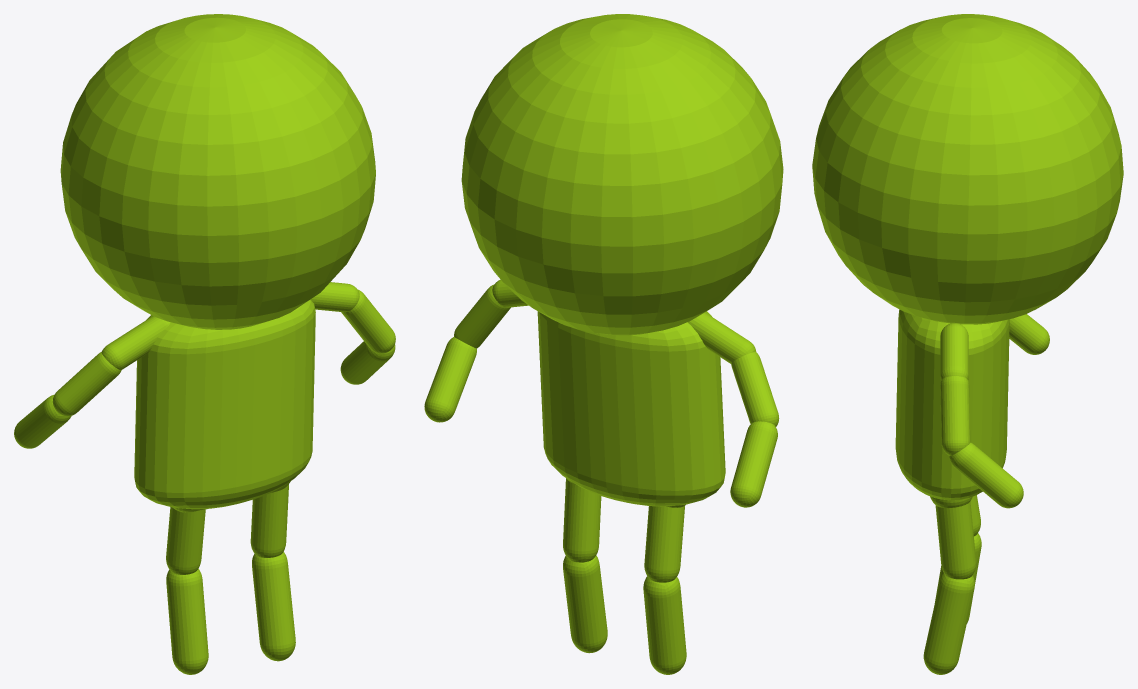
Rendered from Stickman_000097.obj.
The picture shows the model from 3 angles, left to right: view 1: azimuth 30°, elevation 25°; view 2: azimuth 150°, elevation 25°; view 3: azimuth 270°, elevation 25°; orthographic projection. The views are drawn at different scales.
Visible parts, largest first — view 1: Head_Sphere.001, Body_Roundcube.002, LowerLegLeft_Roundcube.013, LowerLegRight_Roundcube.011, UpperLegLeft_Roundcube.012, UpperLegRight_Roundcube.010, UpperArmRight_Roundcube.015, ShoulderRight_Roundcube.014, UpperArmLeft_Roundcube.018, LowerArmRight_Roundcube.016, LowerArmLeft_Roundcube.019, ShoulderLeft_Roundcube.017; view 2: Head_Sphere.001, Body_Roundcube.002, LowerLegRight_Roundcube.011, LowerLegLeft_Roundcube.013, UpperLegRight_Roundcube.010, LowerArmRight_Roundcube.016, UpperLegLeft_Roundcube.012, LowerArmLeft_Roundcube.019, UpperArmRight_Roundcube.015, ShoulderRight_Roundcube.014, UpperArmLeft_Roundcube.018, ShoulderLeft_Roundcube.017; view 3: Head_Sphere.001, Body_Roundcube.002, LowerLegLeft_Roundcube.013, UpperLegLeft_Roundcube.012, LowerArmLeft_Roundcube.019, UpperArmLeft_Roundcube.018, ShoulderLeft_Roundcube.017, LowerArmRight_Roundcube.016.
Part boxes in pixels (x1=…): Head_Sphere.001: x1=60, y1=14, x2=375, y2=329; Body_Roundcube.002: x1=134, y1=299, x2=315, y2=509; LowerLegLeft_Roundcube.013: x1=252, y1=552, x2=295, y2=661; LowerLegRight_Roundcube.011: x1=166, y1=569, x2=208, y2=674; UpperLegLeft_Roundcube.012: x1=250, y1=484, x2=288, y2=557; UpperLegRight_Roundcube.010: x1=166, y1=507, x2=205, y2=574; UpperArmRight_Roundcube.015: x1=52, y1=352, x2=121, y2=416; ShoulderRight_Roundcube.014: x1=101, y1=316, x2=170, y2=369; UpperArmLeft_Roundcube.018: x1=341, y1=289, x2=395, y2=353; LowerArmRight_Roundcube.016: x1=14, y1=394, x2=71, y2=448; LowerArmLeft_Roundcube.019: x1=340, y1=341, x2=395, y2=384; ShoulderLeft_Roundcube.017: x1=310, y1=282, x2=359, y2=312; Head_Sphere.001: x1=461, y1=14, x2=783, y2=335; Body_Roundcube.002: x1=537, y1=311, x2=725, y2=506; LowerLegRight_Roundcube.011: x1=643, y1=576, x2=686, y2=674; LowerLegLeft_Roundcube.013: x1=563, y1=555, x2=607, y2=653; UpperLegRight_Roundcube.010: x1=644, y1=506, x2=684, y2=582; LowerArmRight_Roundcube.016: x1=730, y1=421, x2=777, y2=507; UpperLegLeft_Roundcube.012: x1=563, y1=478, x2=601, y2=562; LowerArmLeft_Roundcube.019: x1=424, y1=337, x2=476, y2=422; UpperArmRight_Roundcube.015: x1=731, y1=352, x2=779, y2=426; ShoulderRight_Roundcube.014: x1=687, y1=312, x2=756, y2=363; UpperArmLeft_Roundcube.018: x1=454, y1=284, x2=510, y2=348; ShoulderLeft_Roundcube.017: x1=492, y1=279, x2=528, y2=307; Head_Sphere.001: x1=812, y1=14, x2=1123, y2=324; Body_Roundcube.002: x1=895, y1=309, x2=1009, y2=500; LowerLegLeft_Roundcube.013: x1=923, y1=573, x2=974, y2=674; UpperLegLeft_Roundcube.012: x1=935, y1=501, x2=976, y2=579; LowerArmLeft_Roundcube.019: x1=949, y1=442, x2=1023, y2=508; UpperArmLeft_Roundcube.018: x1=940, y1=376, x2=970, y2=455; ShoulderLeft_Roundcube.017: x1=940, y1=323, x2=968, y2=380; LowerArmRight_Roundcube.016: x1=1009, y1=314, x2=1049, y2=354.
Bounding box in the file's own units: 7.73 × 13.67 × 6.2.
